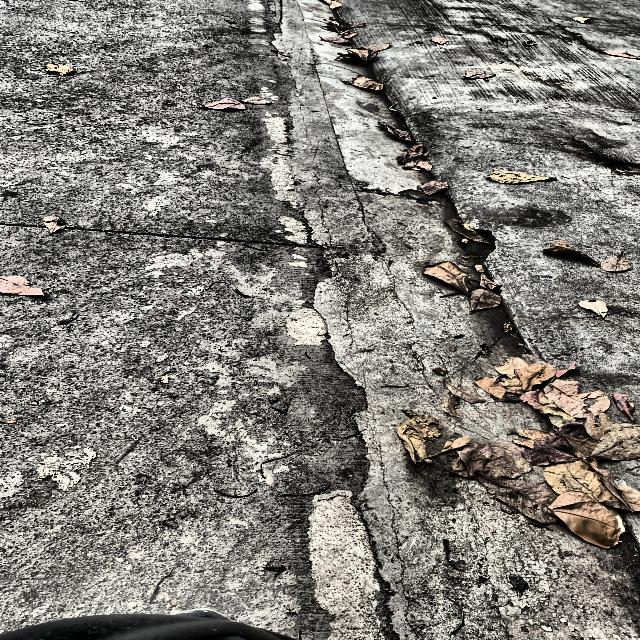no_or_faded_road_markings: (308, 489, 387, 640), (266, 118, 300, 207), (286, 307, 331, 345)
